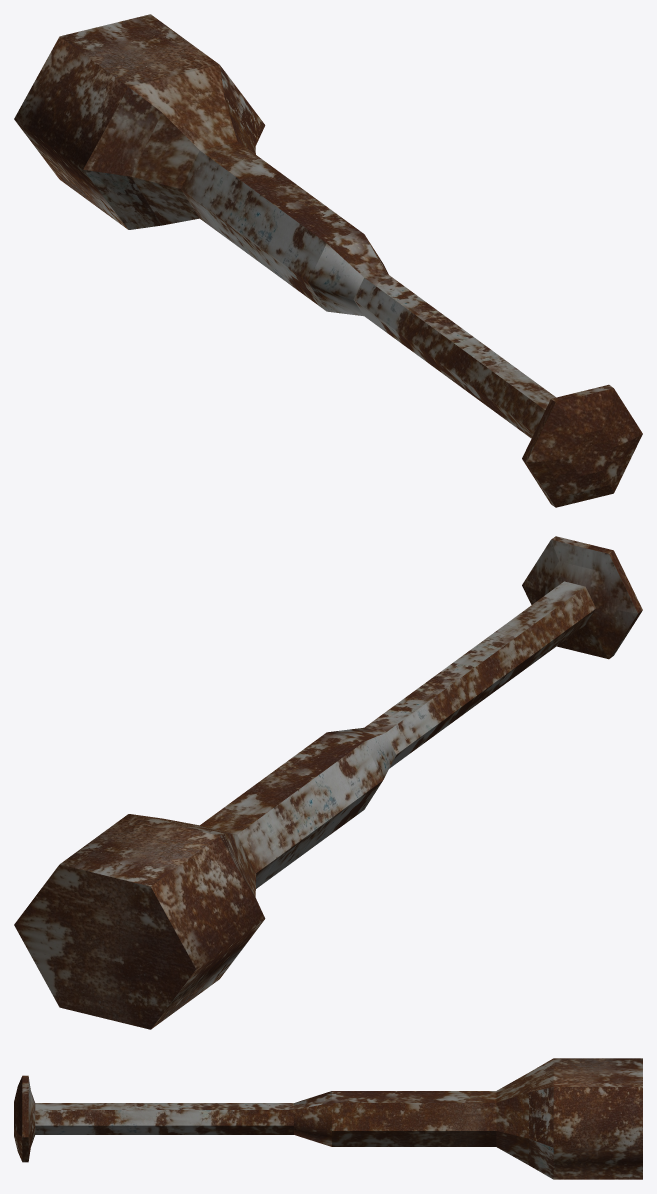
The model's file is Roadlight.fbx.
3 renders of one model, top to bottom at view 1: azimuth 30°, elevation 25°; view 2: azimuth 150°, elevation 25°; view 3: azimuth 270°, elevation 25°, orthographic. The views are drawn at different scales.
Parts seen in each view (by area): view 1: Roadlight; view 2: Roadlight; view 3: Roadlight.
Part boxes in pixels (x1,y1,x2,y2): Roadlight: [14, 14, 642, 507]; Roadlight: [14, 536, 642, 1029]; Roadlight: [14, 1058, 642, 1179].
Size of the model in its own units: 19.59 by 14.7 by 90.49.
Materials: 1 (1 with a texture image).
